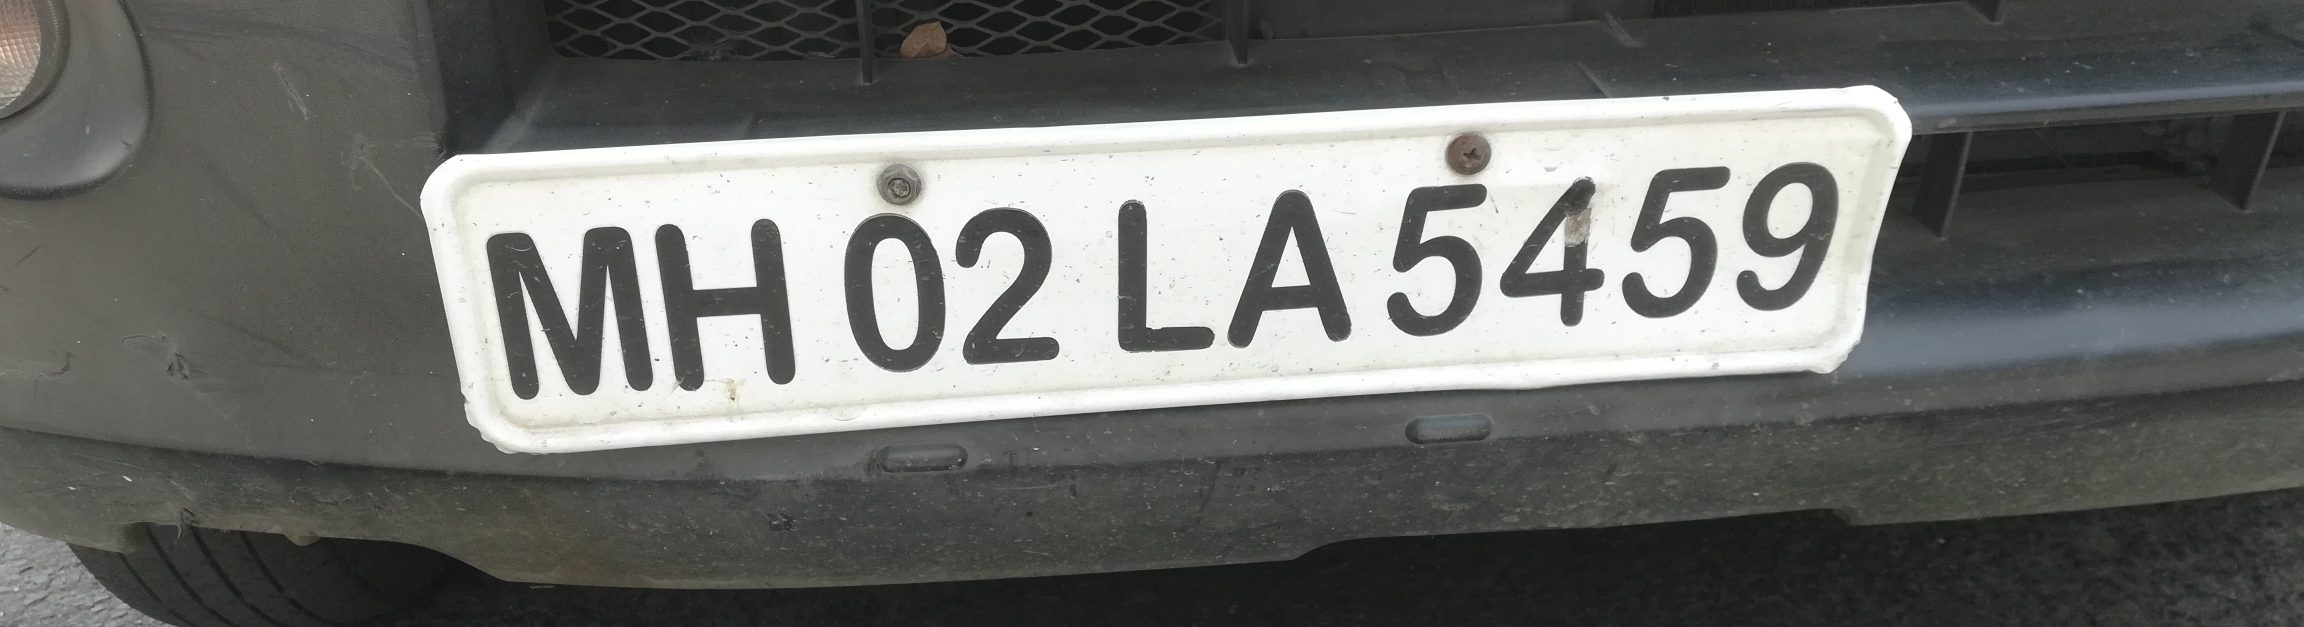numberplate: (413, 97, 1942, 458)
